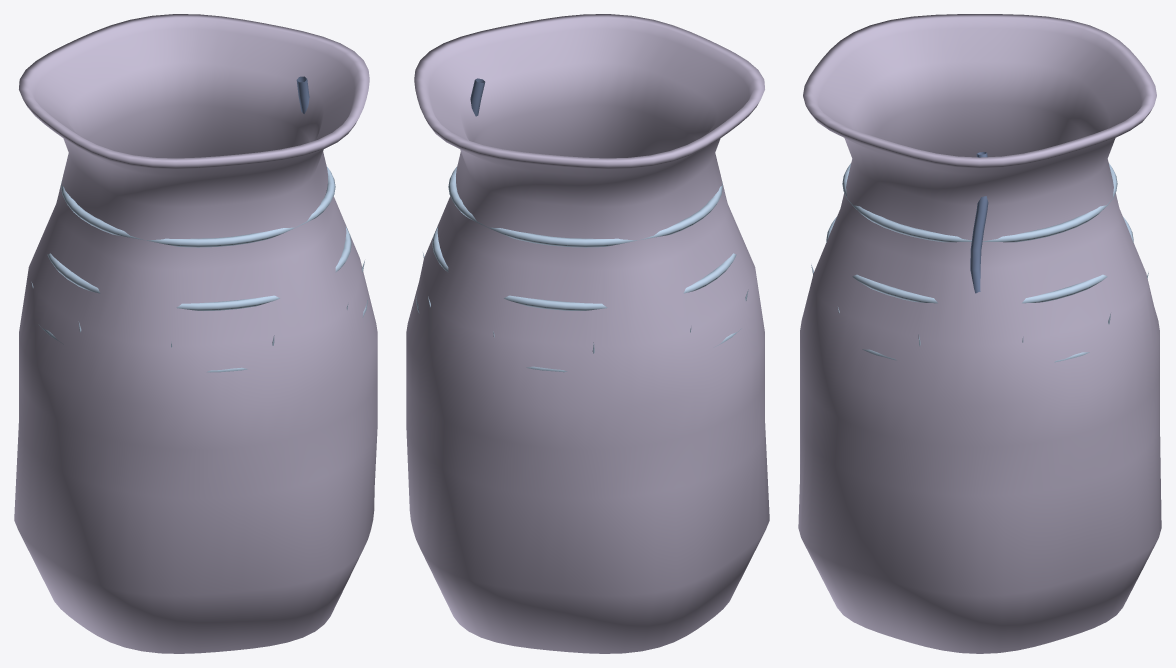
Rendered from landmark_shed_husk.glb.
3 views of the same model, side by side, from view 1: azimuth 30°, elevation 25°; view 2: azimuth 150°, elevation 25°; view 3: azimuth 270°, elevation 25° (orthographic).
Parts seen in each view (by area): view 1: LandmarkShedHusk; view 2: LandmarkShedHusk; view 3: LandmarkShedHusk.
Part boxes in pixels (box(x1,y1,x2,y2)): LandmarkShedHusk: box(14, 14, 377, 653); LandmarkShedHusk: box(406, 14, 769, 653); LandmarkShedHusk: box(798, 14, 1161, 653).
Size of the model in its own units: 4.06 by 6.5 by 4.04.
